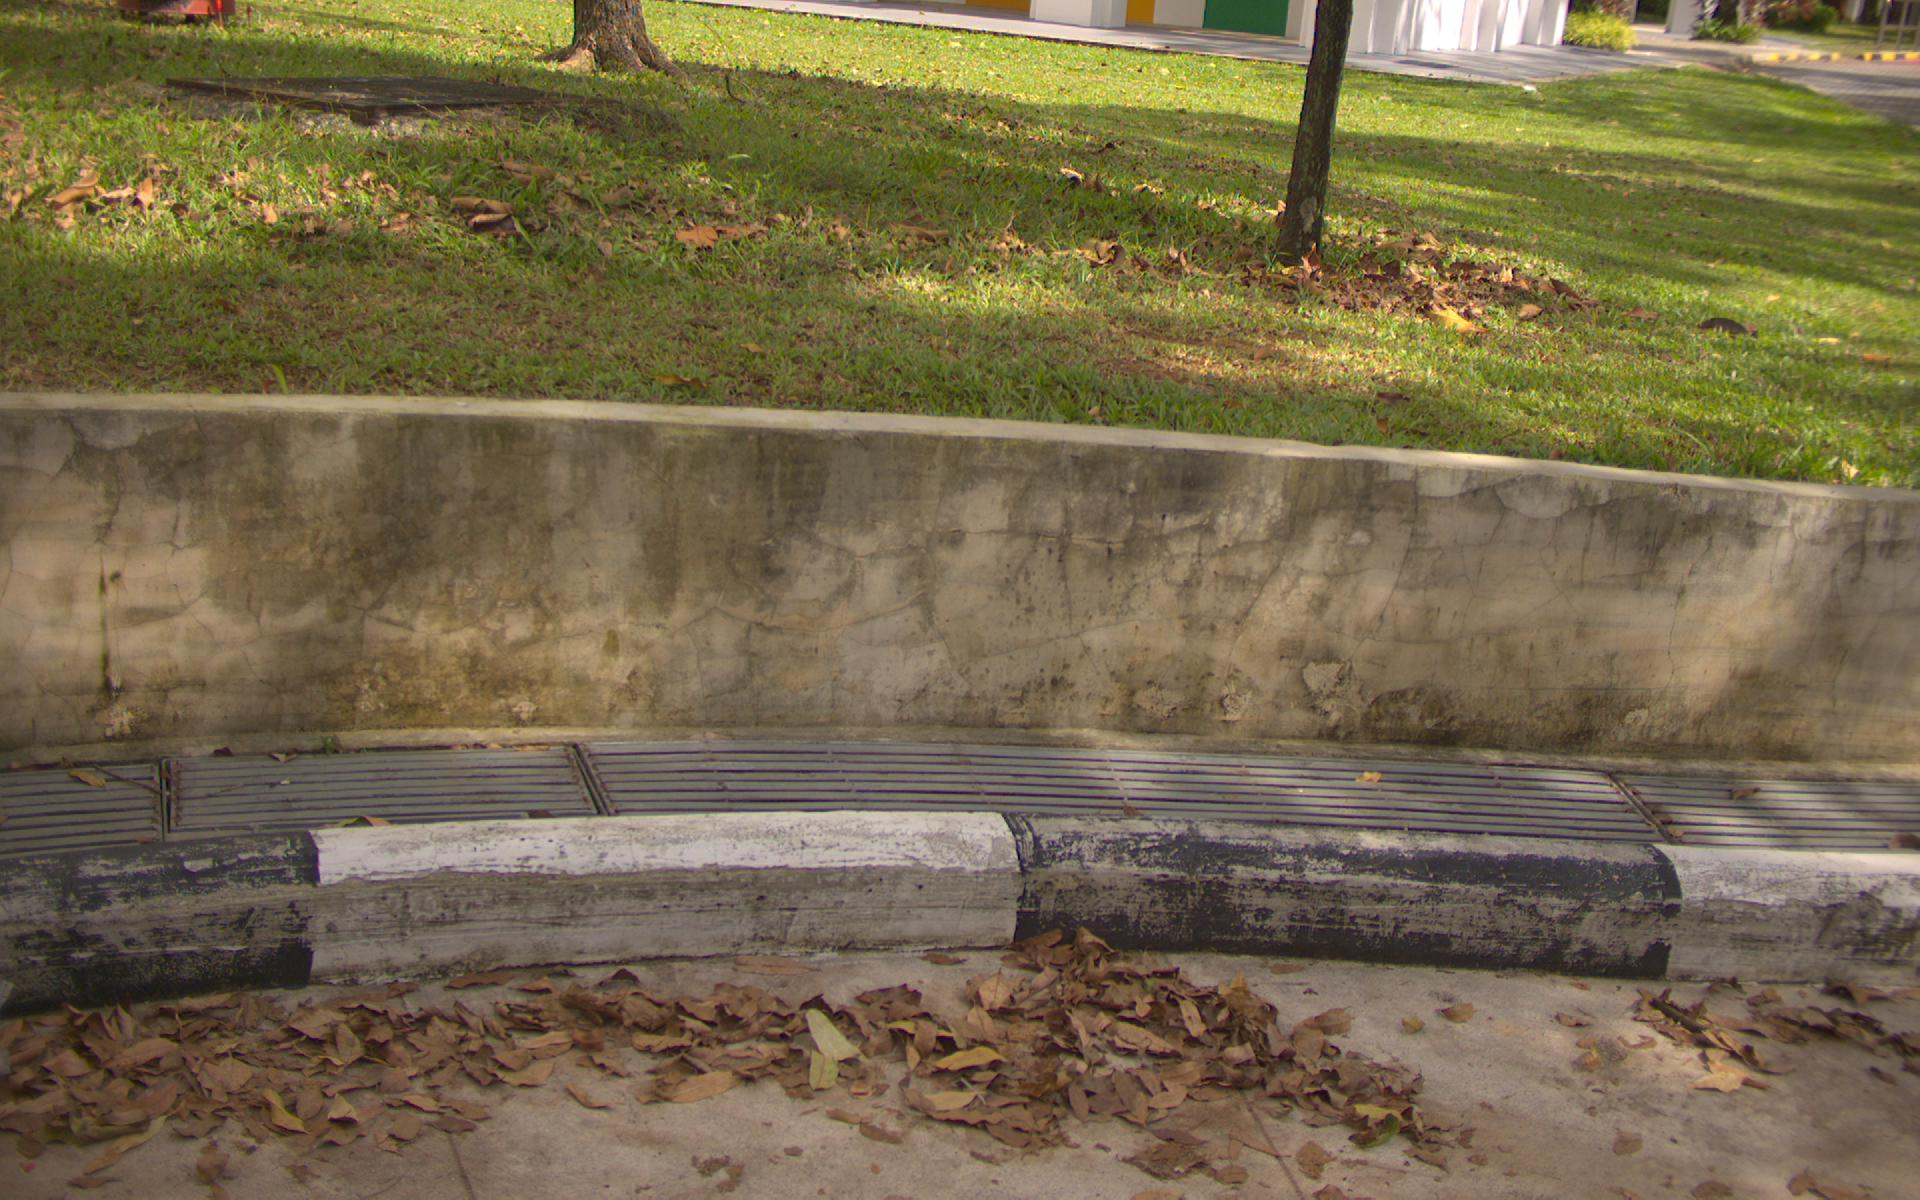curb_dic_low: (15, 701, 1892, 814)
road_curb_medium: (1, 986, 1883, 1176)
road_turf_low: (17, 118, 1908, 358)
